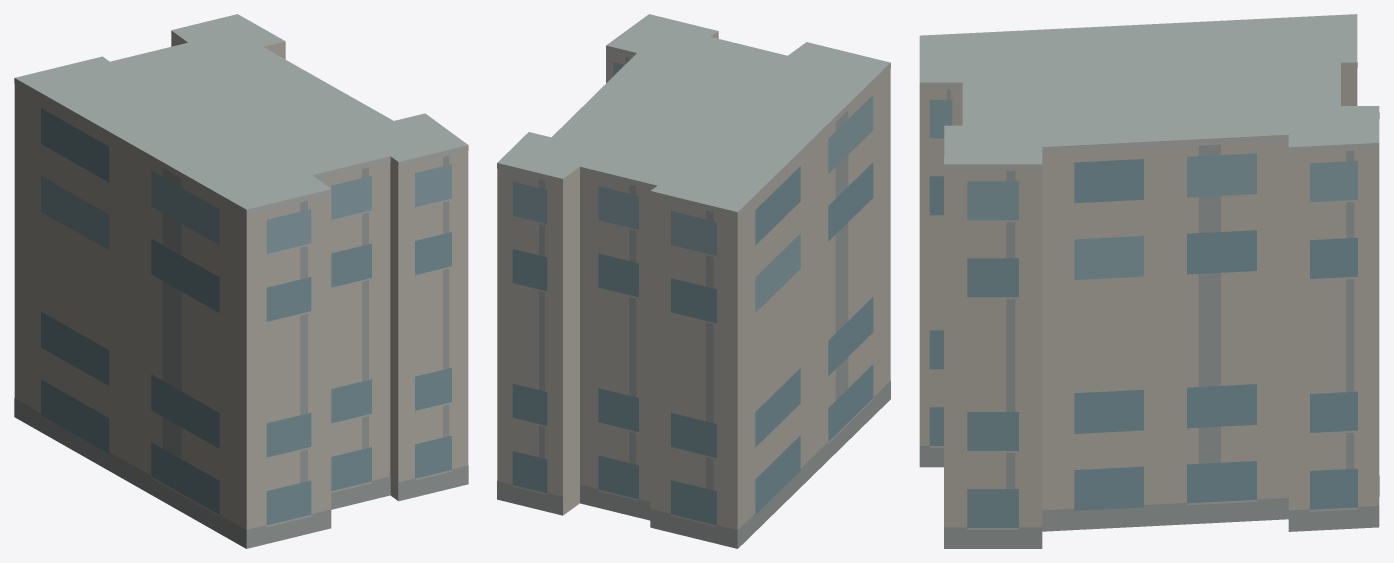
File: survey-upis-32890994.glb
3 renders of one model, left to right at view 1: azimuth 30°, elevation 25°; view 2: azimuth 150°, elevation 25°; view 3: azimuth 270°, elevation 25°, orthographic. The views are drawn at different scales.
Parts seen in each view (by area): view 1: survey-upis-32890994.tmp; view 2: survey-upis-32890994.tmp; view 3: survey-upis-32890994.tmp.
Part boxes in pixels (box(x1,y1,x2,y2)): survey-upis-32890994.tmp: box(14, 14, 468, 548); survey-upis-32890994.tmp: box(497, 14, 890, 548); survey-upis-32890994.tmp: box(919, 14, 1379, 548).
Size of the model in its own units: 11.84 by 14.1 by 15.3.
